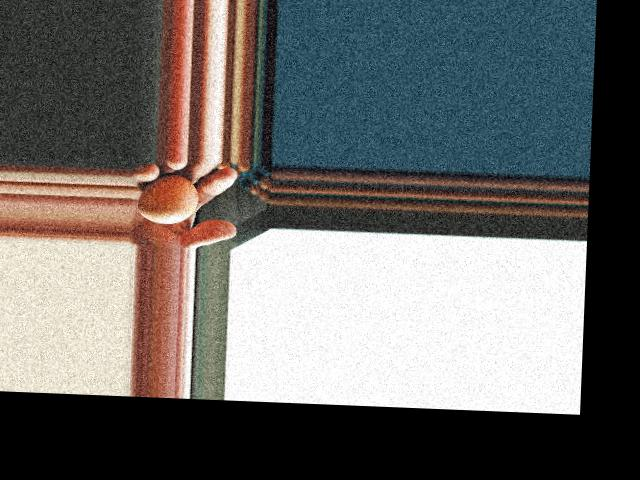egg: (135, 172, 199, 224)
